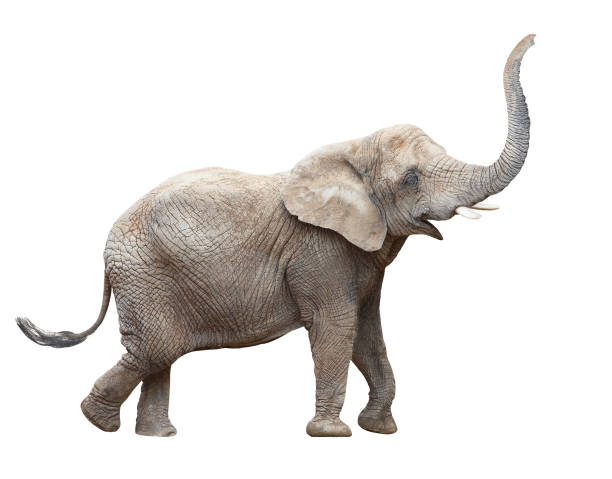africanelephant: (295, 120, 537, 241)
